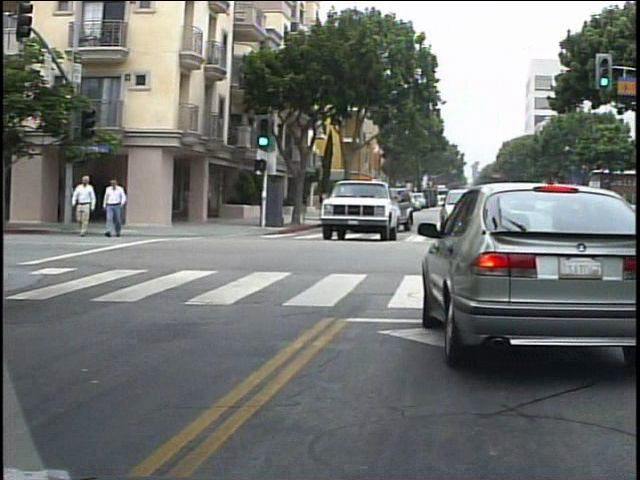person: (74, 170, 105, 241), (108, 174, 136, 242)
